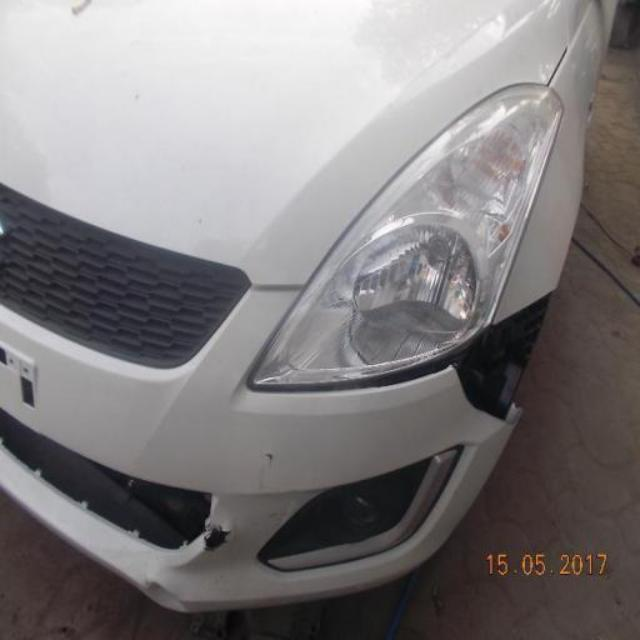crack: (202, 525, 230, 557)
dent: (141, 578, 187, 615)
dislocated part: (250, 291, 557, 428)
scratch: (256, 439, 283, 468)
